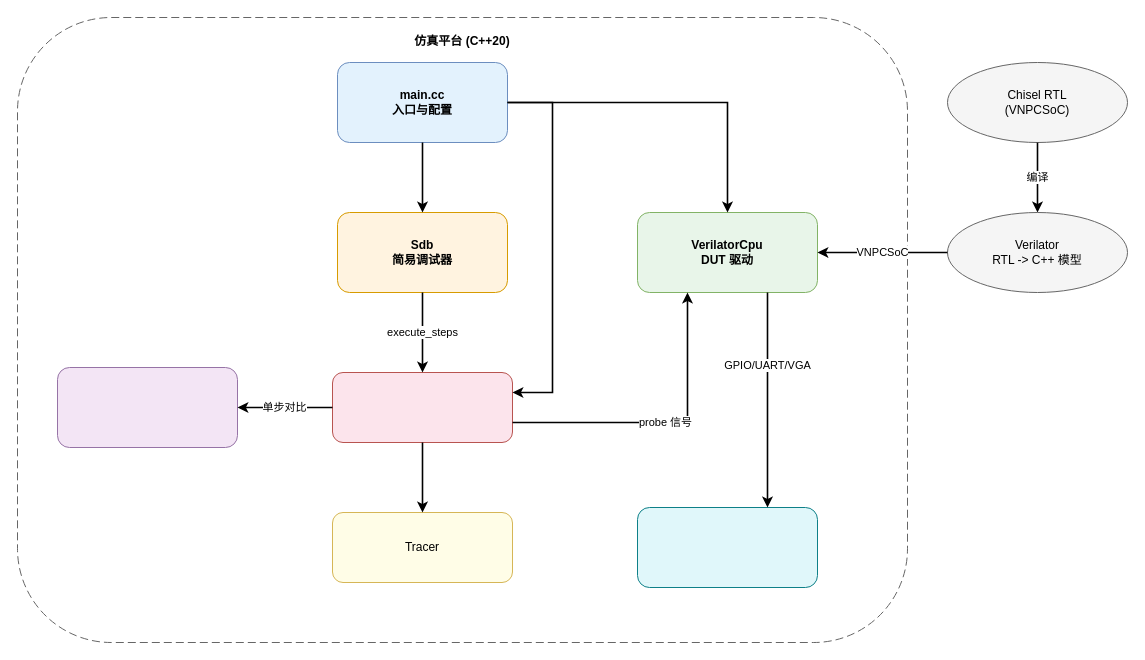
The diagram is 1145 pixels wide and 660 high, and some of its shapes have lost their labels. Here are the shapes that lost their labels. From the top down, the box of each, then its label:
(56, 366, 238, 448): SpikeCpu 参考模型
(332, 372, 512, 442): ScoreBoard Difftest 核心
(636, 506, 818, 588): NVBoard 外设可视化
